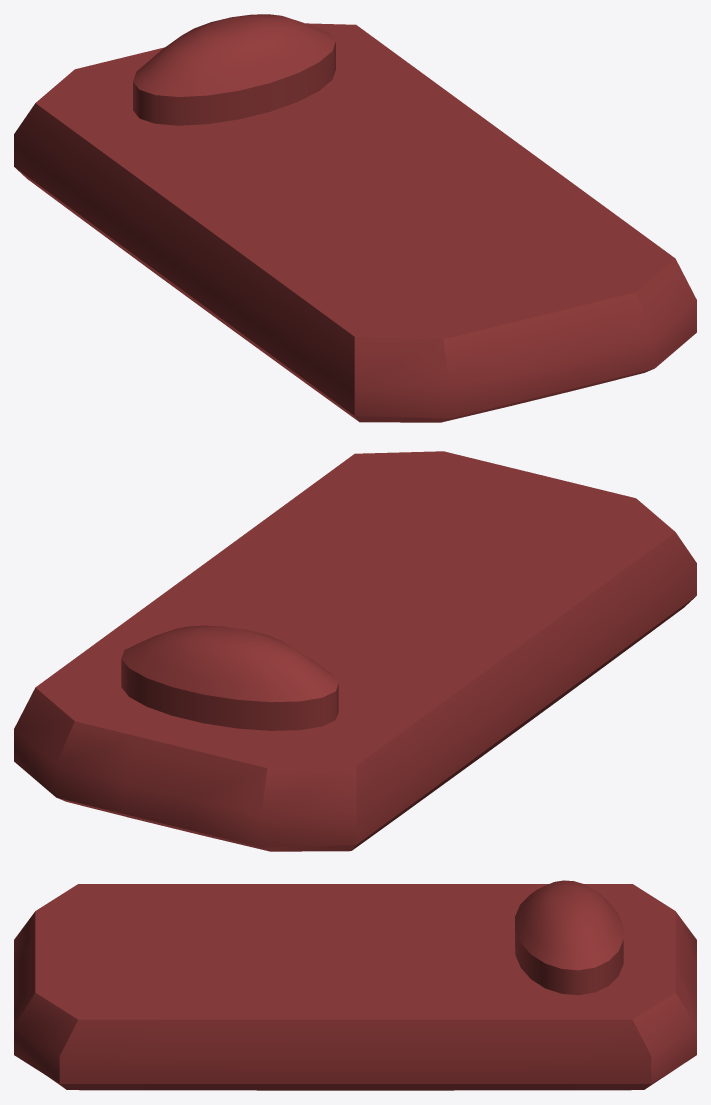
Rendered from Ship.fbx.
3 views of the same model, one above another, from view 1: azimuth 30°, elevation 25°; view 2: azimuth 150°, elevation 25°; view 3: azimuth 270°, elevation 25° (orthographic). The views are drawn at different scales.
Visible parts, largest first — view 1: pCube2; view 2: pCube2; view 3: pCube2.
Part boxes in pixels (bbox=[...]): pCube2: bbox=[14, 14, 696, 422]; pCube2: bbox=[14, 451, 696, 851]; pCube2: bbox=[14, 880, 696, 1090].
Size of the model in its own units: 2.59 by 1.03 by 5.16.
